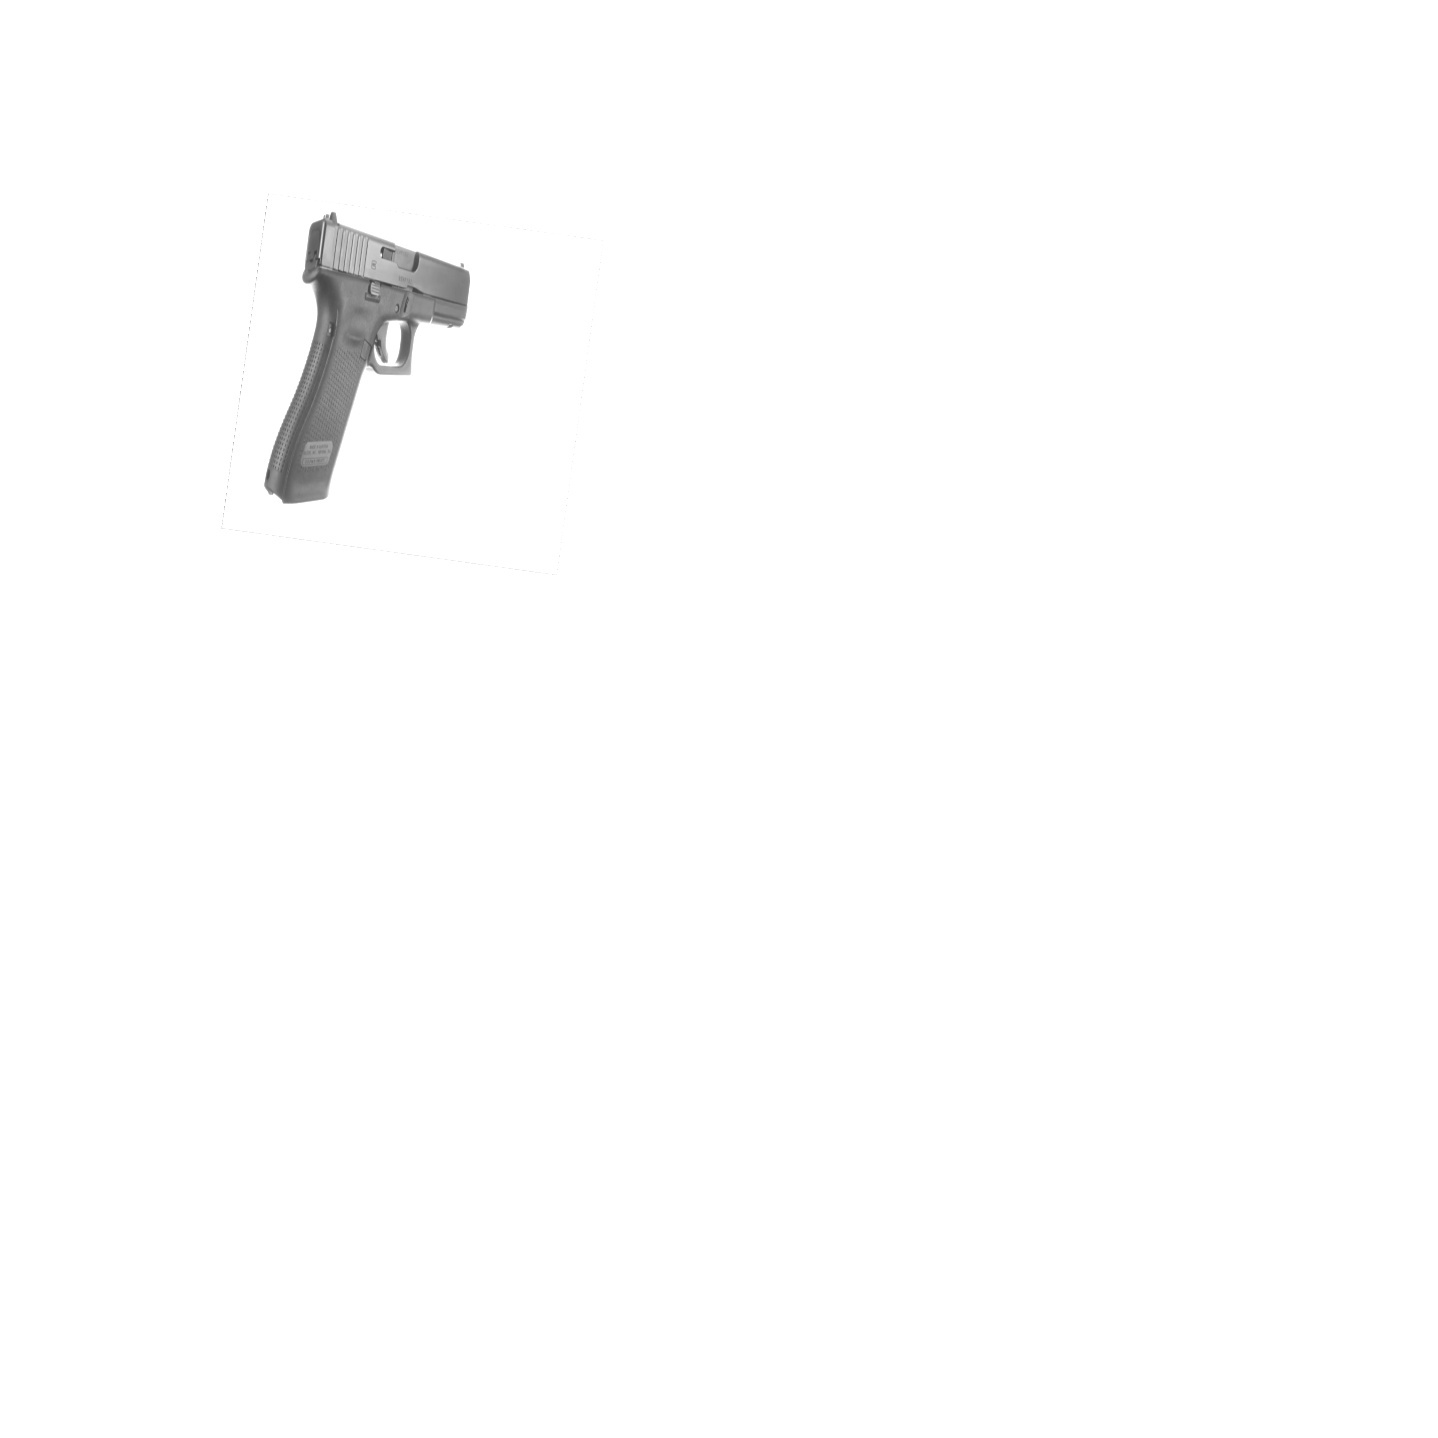gun: (248, 203, 478, 508)
